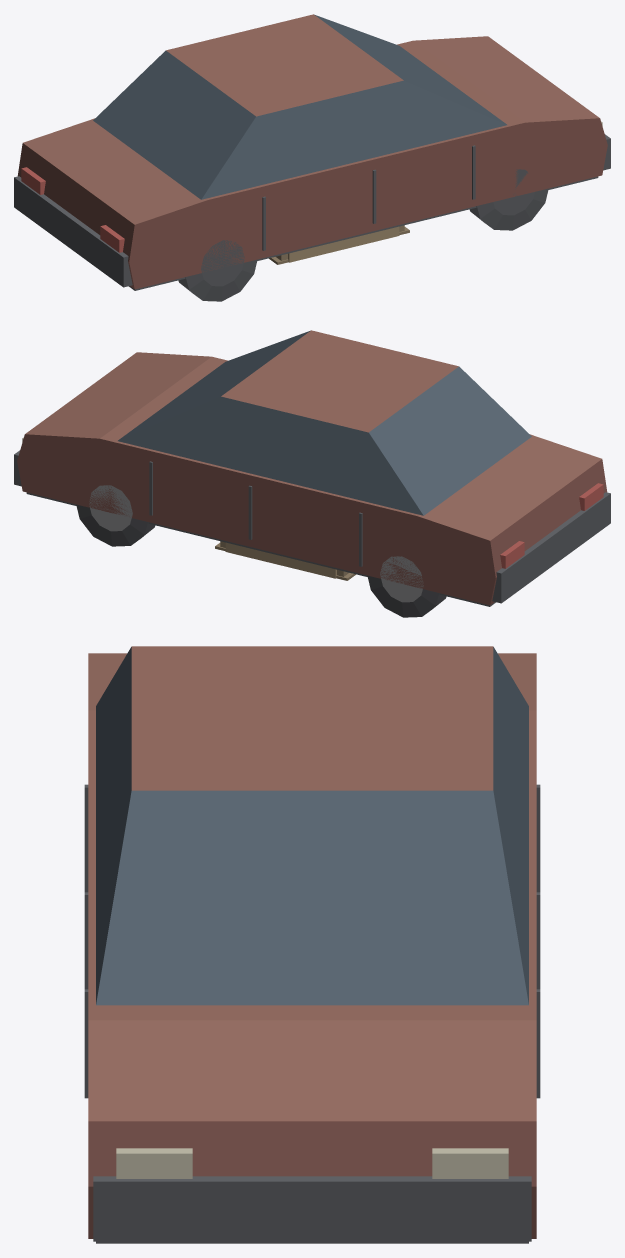
Rendered from props.glb.
3 views of the same model, one above another, from view 1: azimuth 30°, elevation 25°; view 2: azimuth 150°, elevation 25°; view 3: azimuth 270°, elevation 25° (orthographic). The views are drawn at different scales.
Parts seen in each view (by area): view 1: car, crate; view 2: car, crate; view 3: car.
Part boxes in pixels (x1=…): car: x1=14, y1=14, x2=610, y2=301; crate: x1=288, y1=226, x2=399, y2=262; car: x1=14, y1=330, x2=610, y2=617; crate: x1=225, y1=542, x2=336, y2=578; car: x1=84, y1=646, x2=540, y2=1243.
Bounding box in the file's own units: 4.42 × 1.45 × 1.79.
